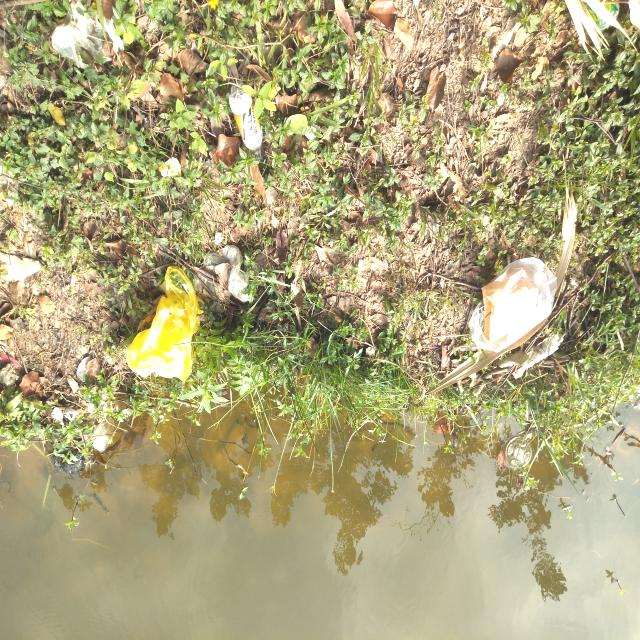Clear plastic bottle: (229, 86, 267, 171)
Drink can: (583, 2, 619, 31)
Paper bag: (482, 267, 538, 345)
Plastic film: (51, 1, 125, 68), (203, 245, 249, 302), (92, 416, 115, 453), (52, 407, 79, 423)
Plastic lid: (503, 436, 532, 470)
Single-use carrier bag: (126, 264, 204, 385), (469, 257, 557, 352)
